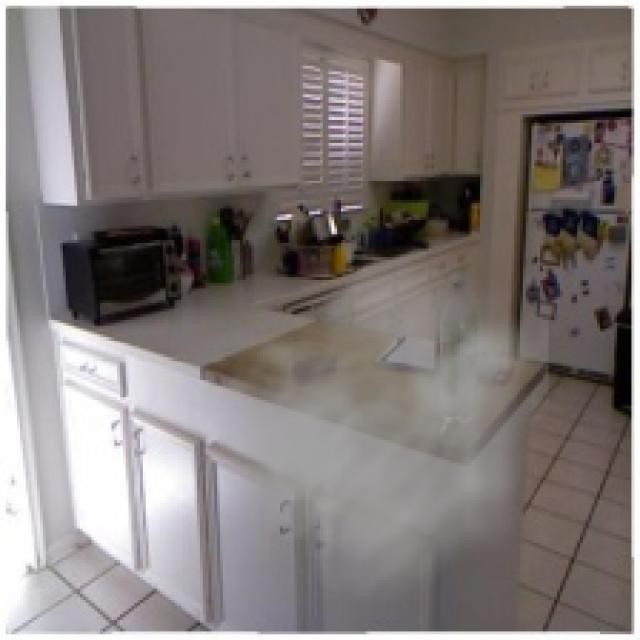smoke: (177, 237, 549, 614)
